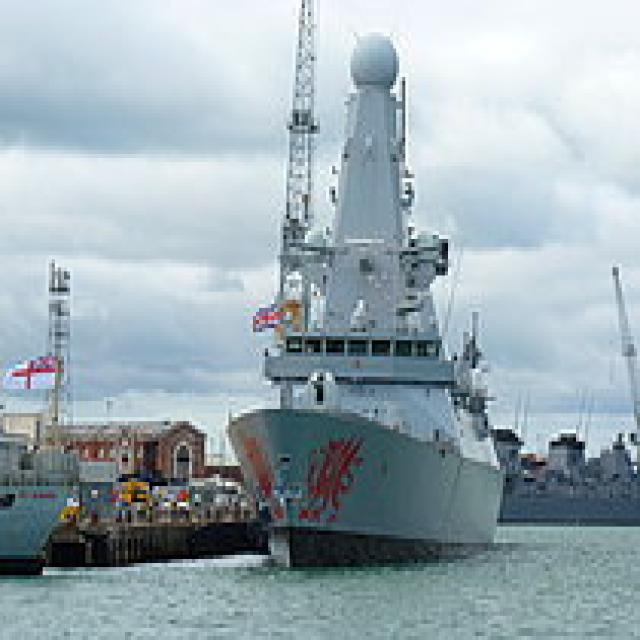Warship: (222, 28, 503, 563)
